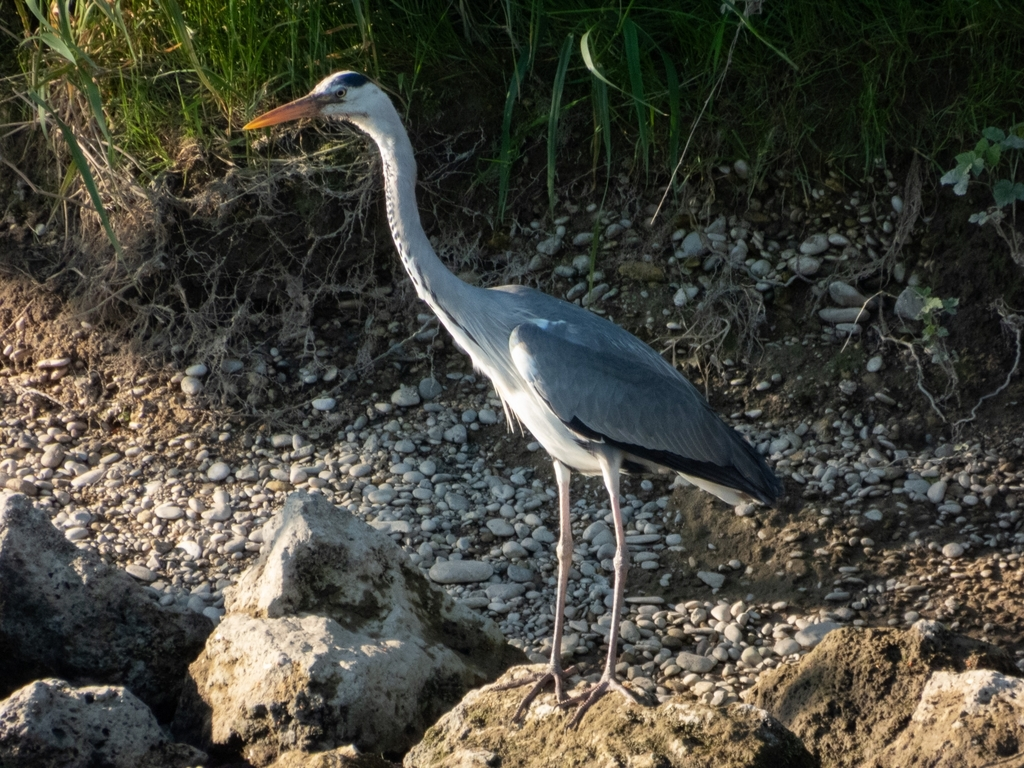heron: (241, 68, 796, 730)
